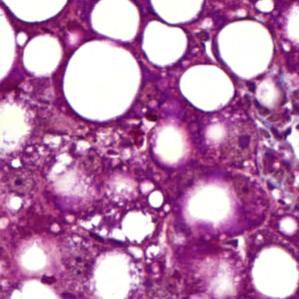steatosis: (66, 38, 140, 128), (212, 17, 277, 76), (178, 60, 237, 115), (250, 240, 299, 298), (138, 20, 188, 64), (20, 32, 64, 76)
